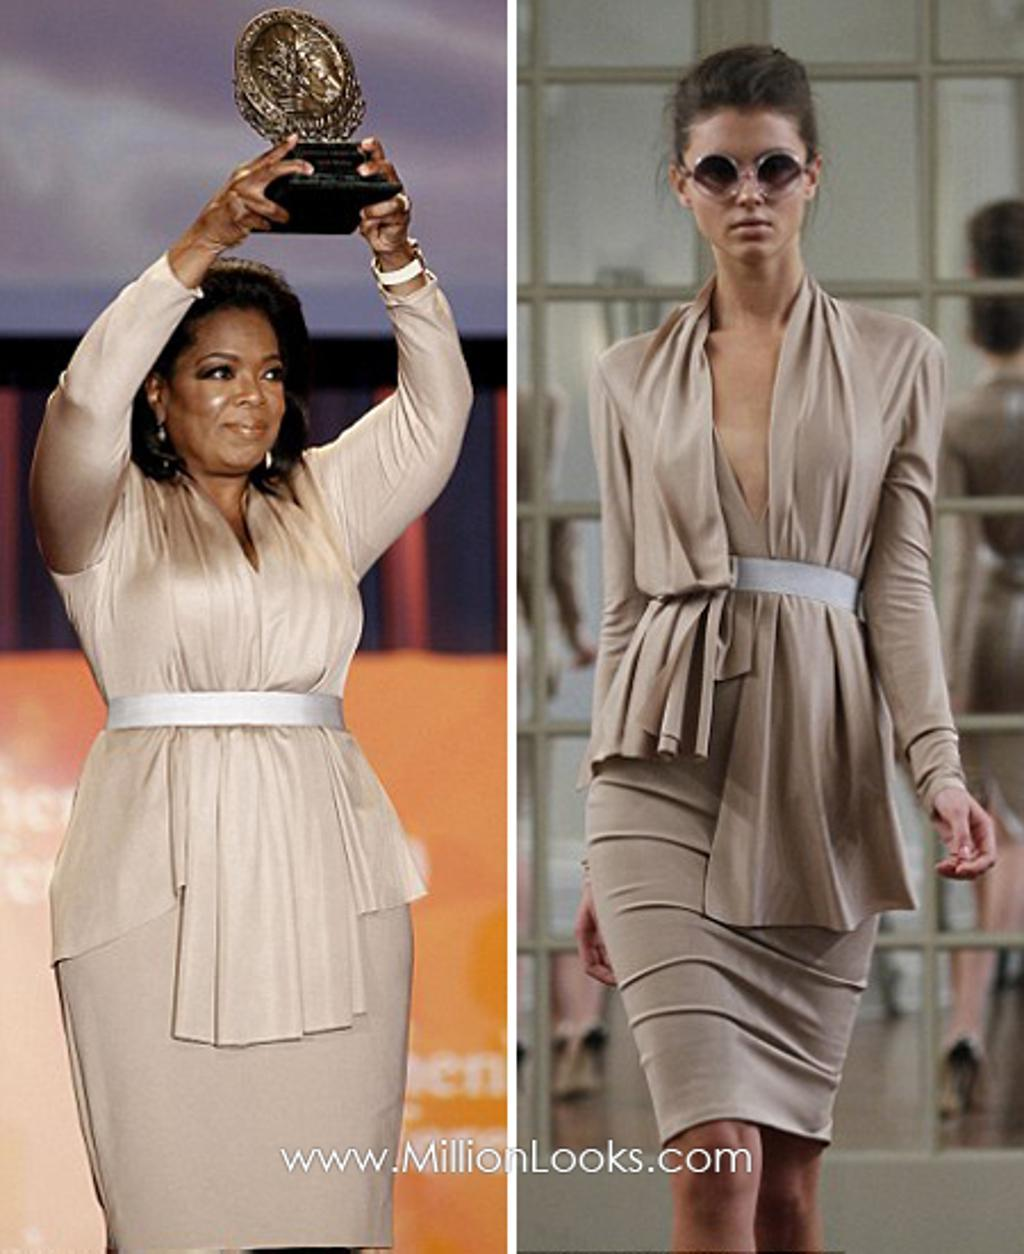face: (679, 100, 806, 262), (167, 292, 282, 468)
